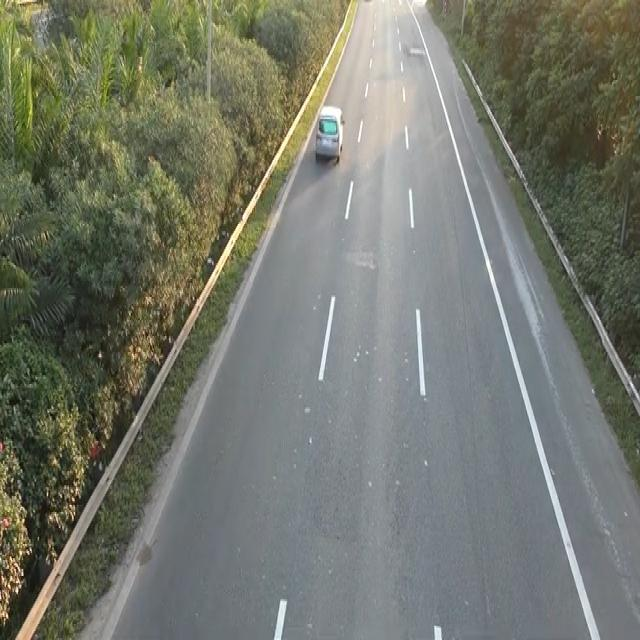lorry: (313, 101, 346, 166)
